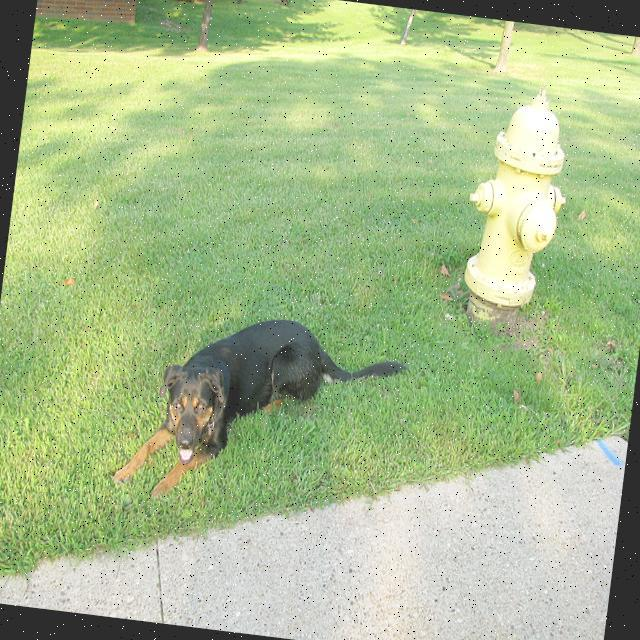fire_hydrant: (454, 77, 578, 336)
